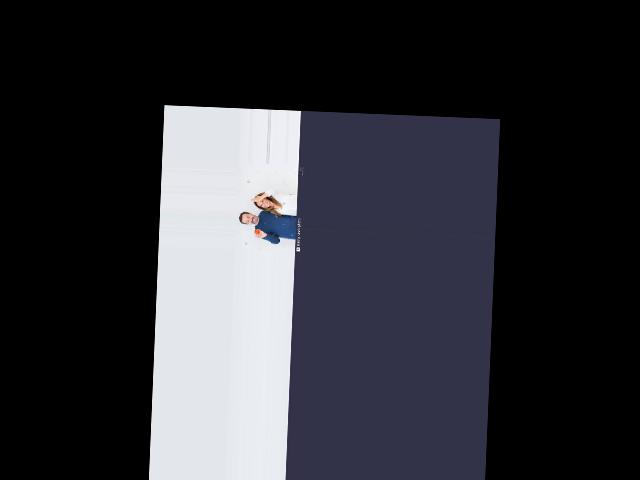tomato: (254, 228, 259, 233)
